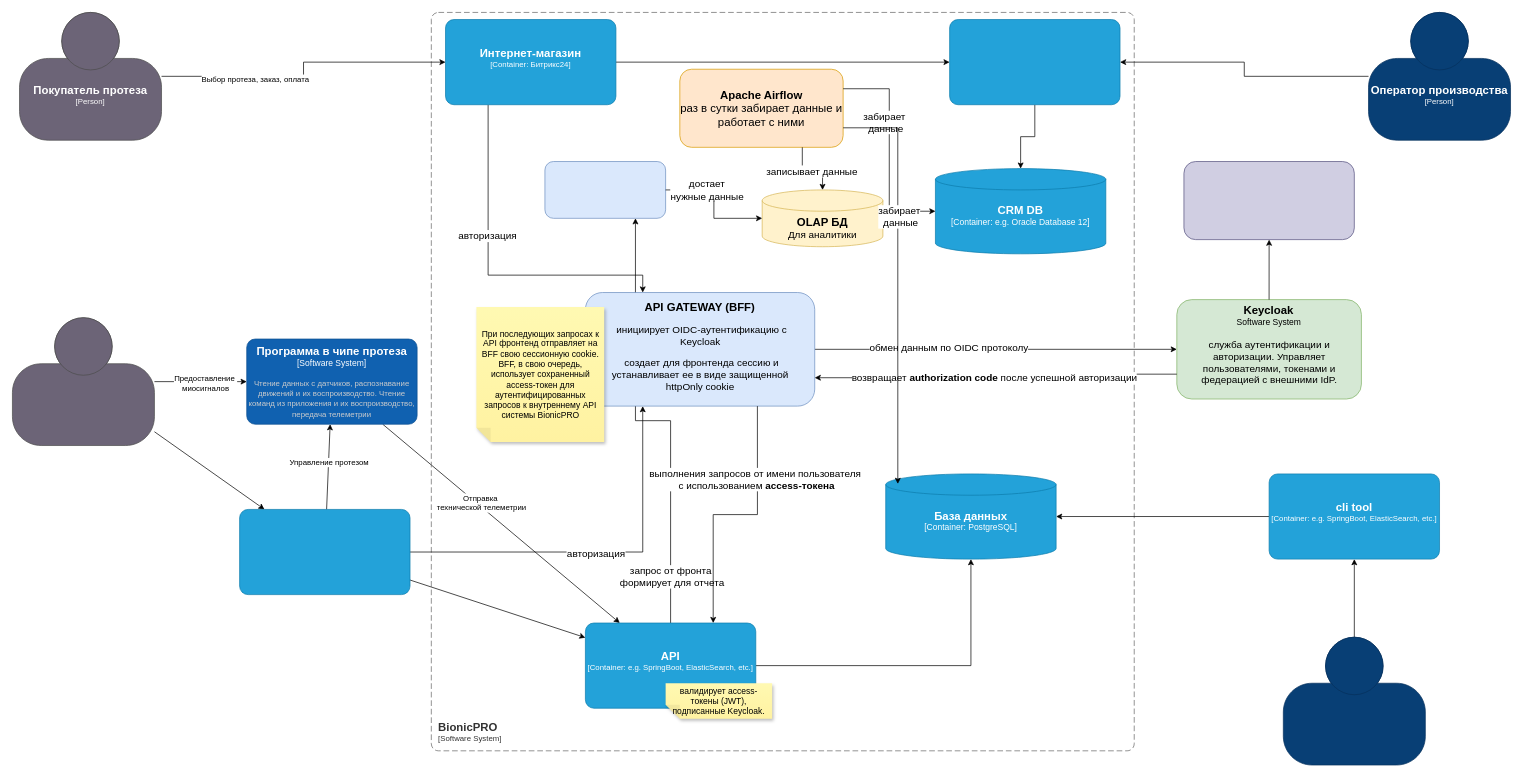
This 1523x777 diagram has some shape labels left out. The centre of each missing label's shape, as x and y in pixels:
"CRM [Container: Битрикс24]" goes at [1034,62].
"ML-инженер [Person]" goes at [1354,701].
"Внешний IDP страны" goes at [1268,200].
"Пилот протеза [Person] С этого человека считываются данные" goes at [83,381].
"Приложение для донастройки протеза [Container: iOD, Android]" goes at [324,552].
"Сервис отчетов" goes at [605,189].
